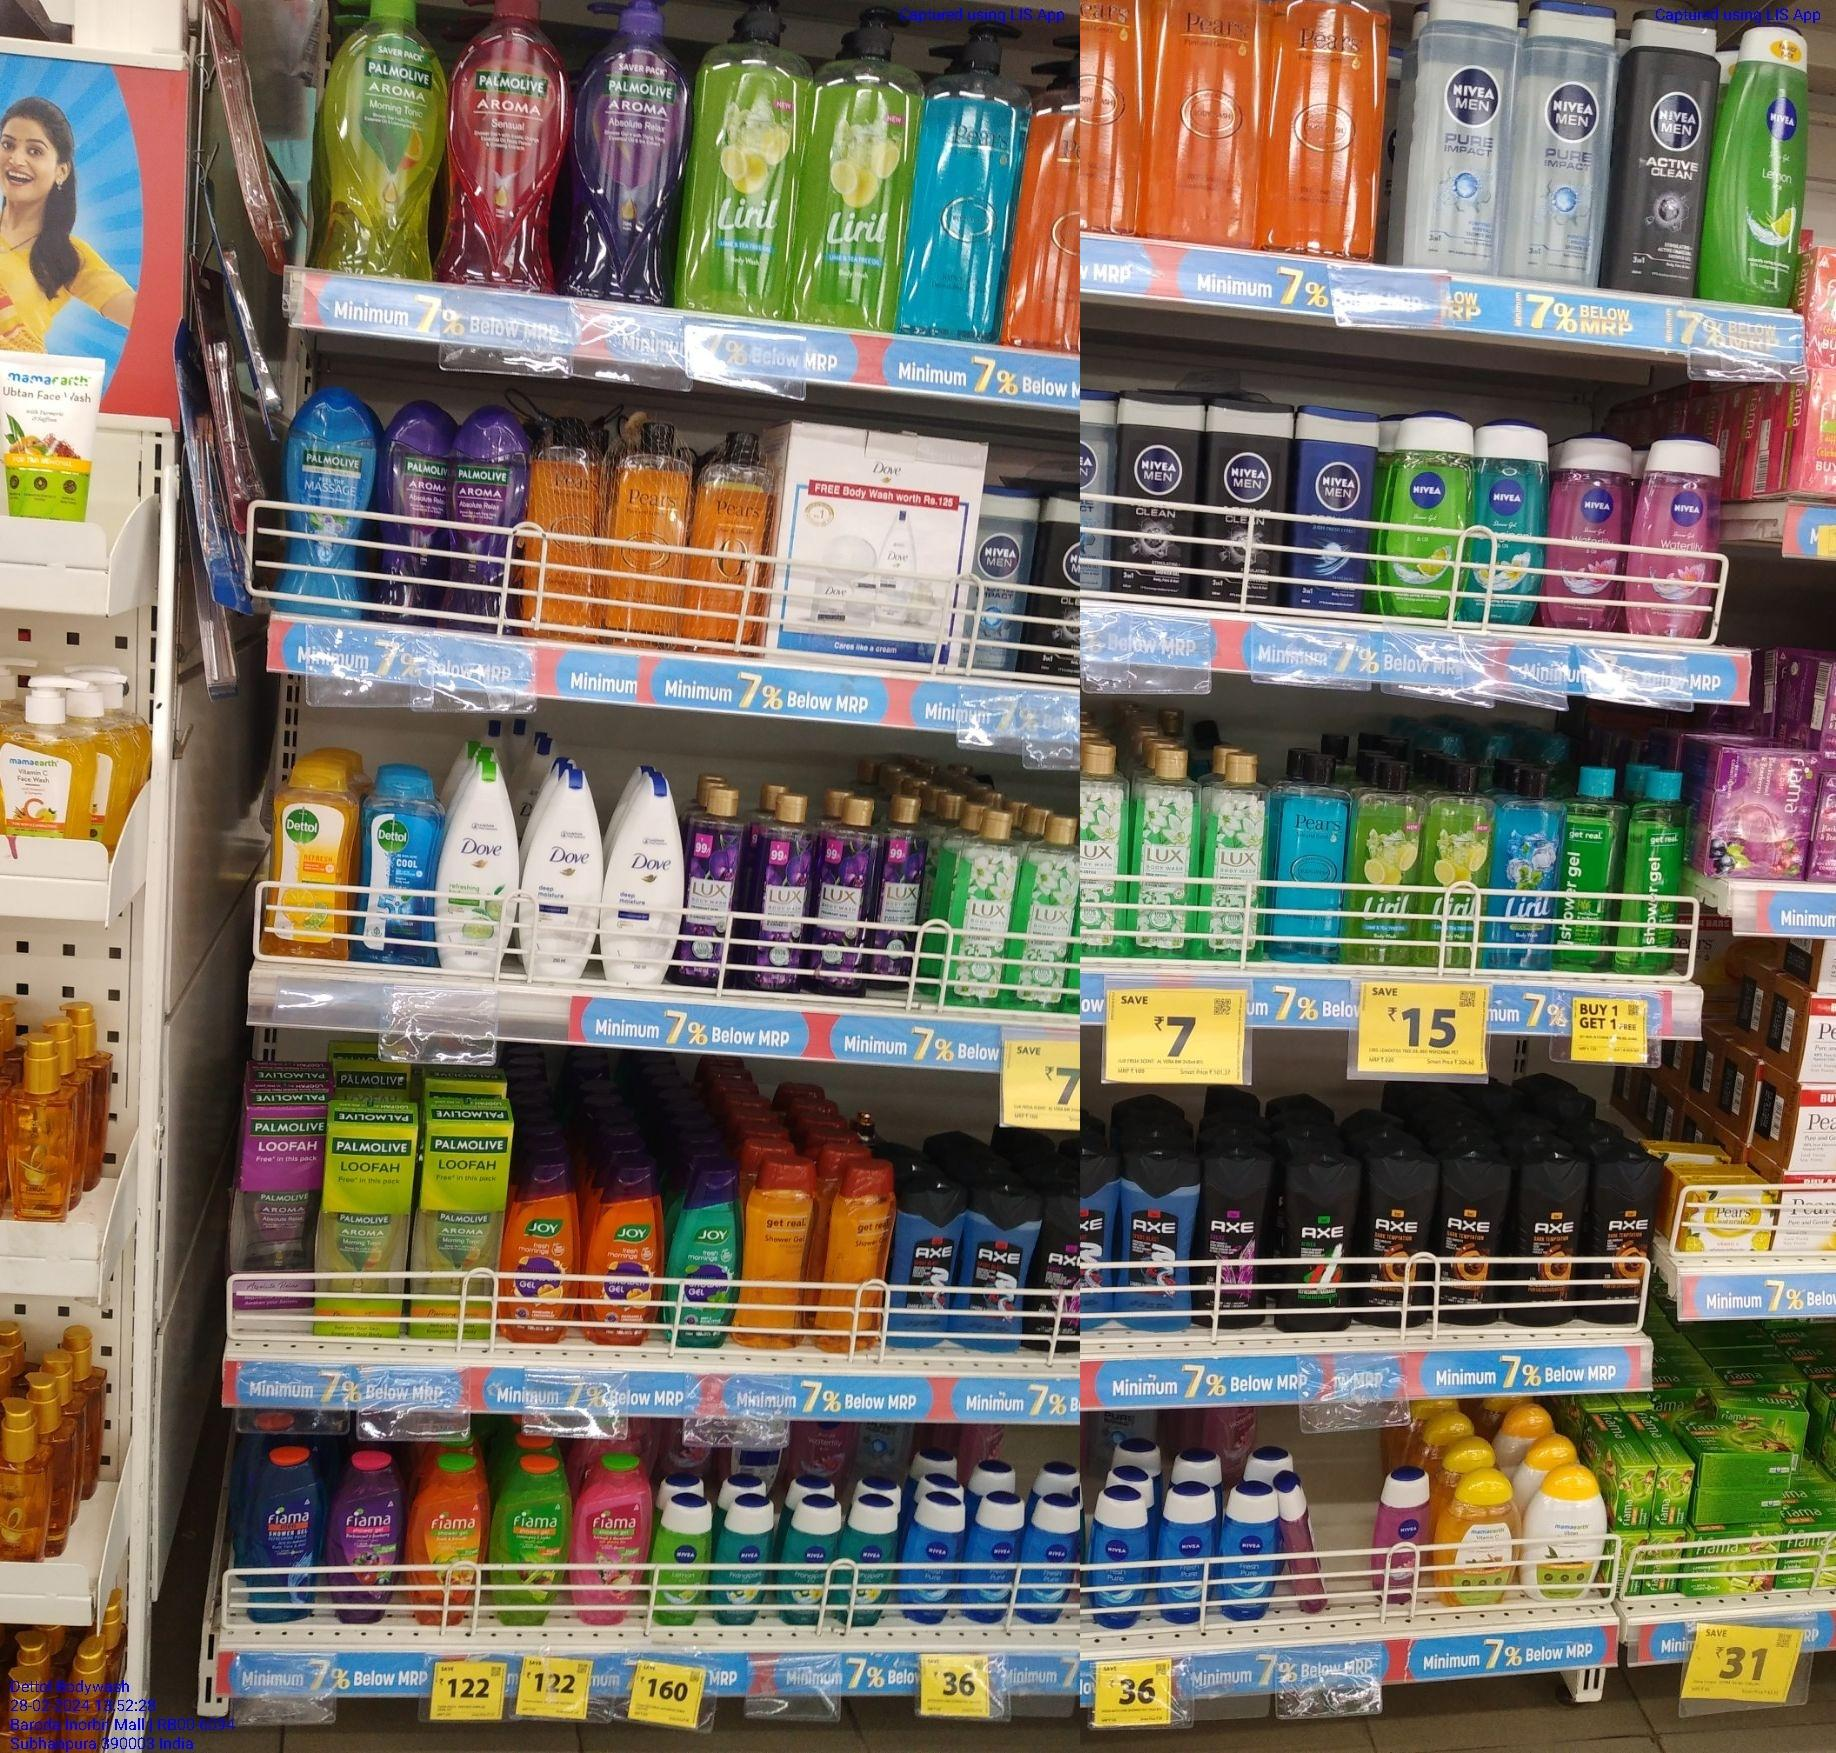Fiama_Shower_Gel_Lemongrass_and_Jojoba_250ML: (492, 1455, 572, 1635)
Fiama_Shower_Gel_Patchouli_and_Macadamia_250ML: (575, 1455, 649, 1632)
Fiama_Shower_Gel_Peach_and_Avocado_250ML: (407, 1458, 487, 1630)
Get_Real_Shower_Gel_Moisturising_Glycerin_300ML: (829, 1164, 897, 1358), (749, 1159, 813, 1353)
Joy_Shower_Gel_Mandarin_and_Lemongrass_250ML: (502, 1161, 577, 1350), (592, 1154, 659, 1348)
Joy_Shower_Gel_Mint_and_Eucalyptus_250ML: (667, 1159, 741, 1351)
Nivea_Shower_Gel_Frangipani_and_Oil_250ML: (1470, 417, 1547, 631)
Nivea_Shower_Gel_Lemon_and_Oil_250ML: (1723, 16, 1811, 316), (1390, 408, 1469, 620)
Nivea_Shower_Gel_Waterlily_and_Oil_250ML: (1636, 430, 1725, 643), (1551, 430, 1629, 636)
Palmolive_Aroma_Relax_250ML: (452, 403, 523, 638), (377, 395, 446, 626)
